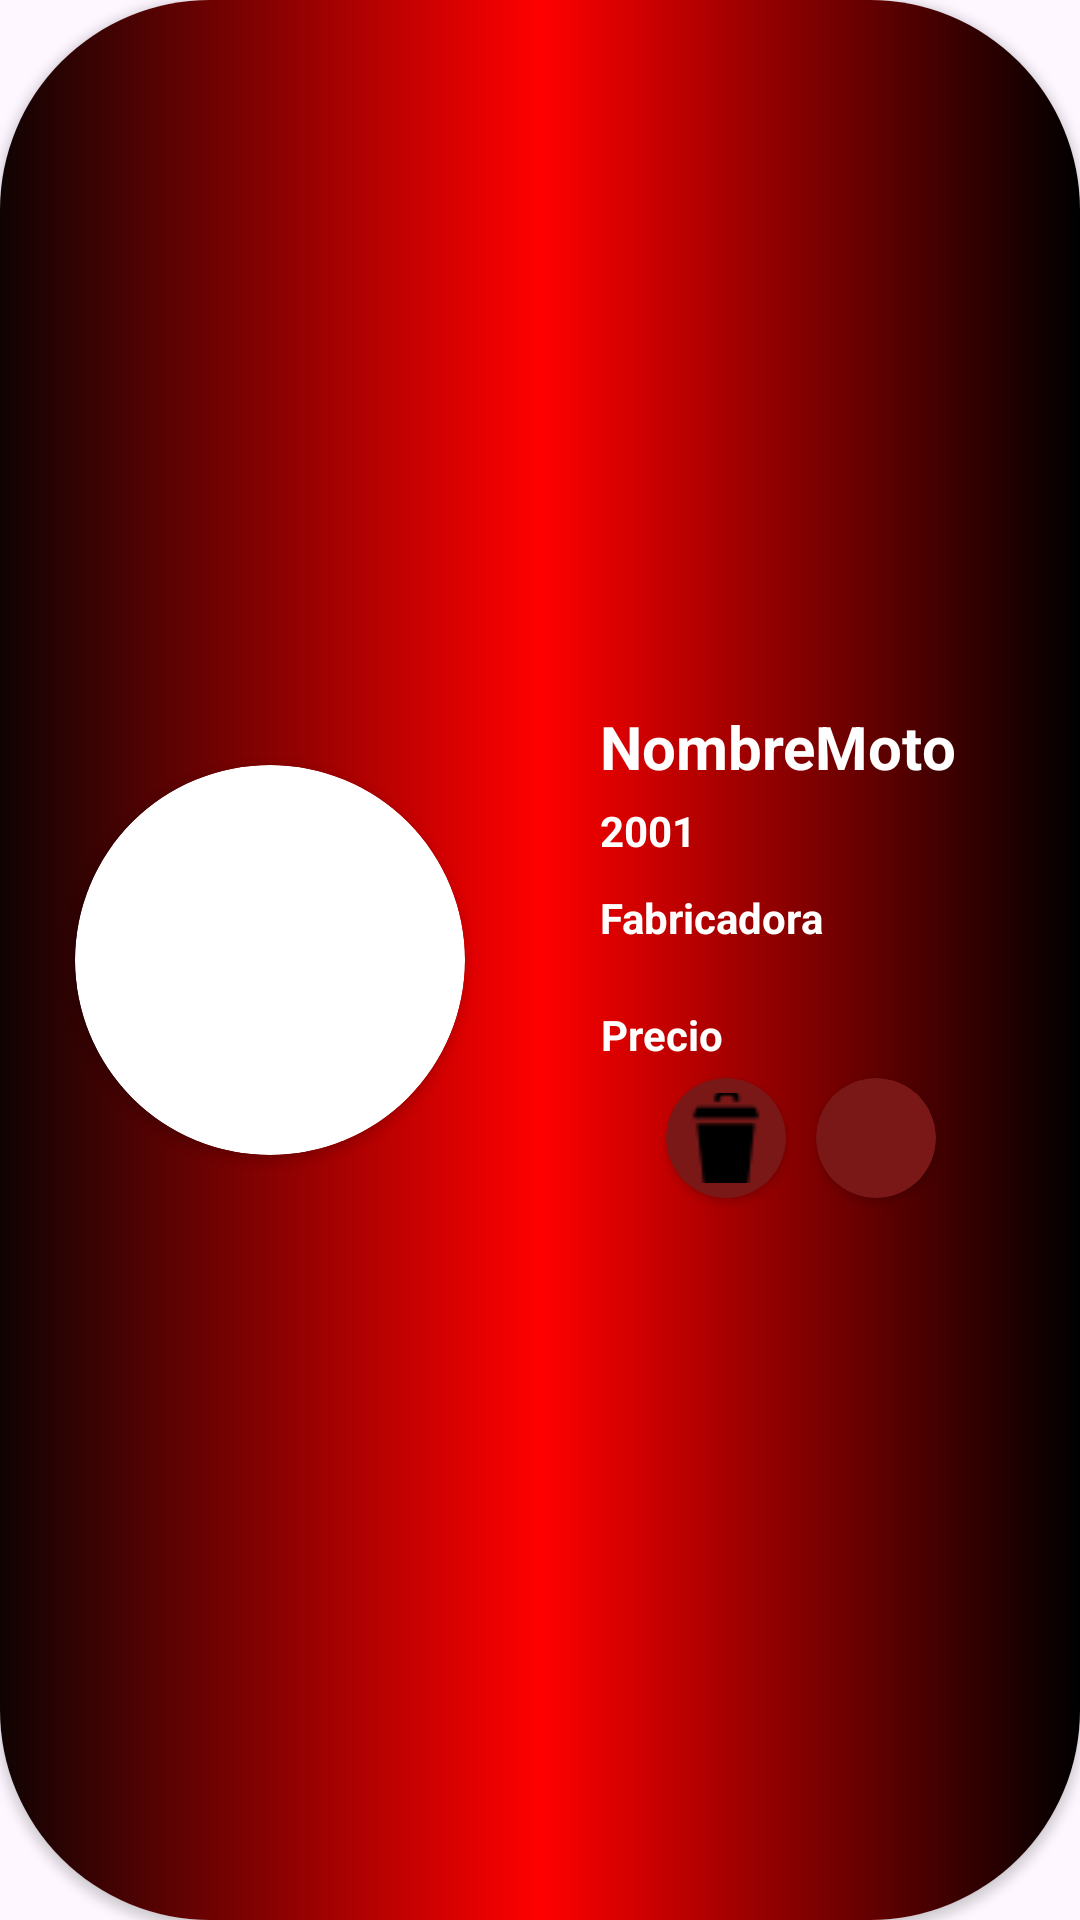

Icon bounding boxes for this 1080 x 1920 phone screenshot, format (x1=x1, y1=y1, x2=x2, y2=y2):
bote de basura: (x1=692, y1=1093, x2=760, y2=1183)
